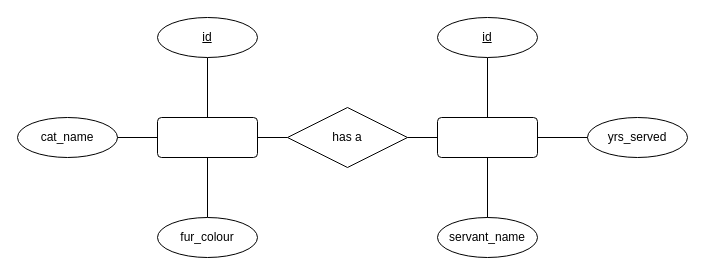
The diagram is 705 pixels wide and 275 high, and some of its shapes have lost their labels. The shapes that lost their labels are listed below. From the top down, each one's box as (x1, y1, x2, y2) in pixels, then its label:
(156, 116, 258, 158): cats
(436, 116, 538, 158): servants
